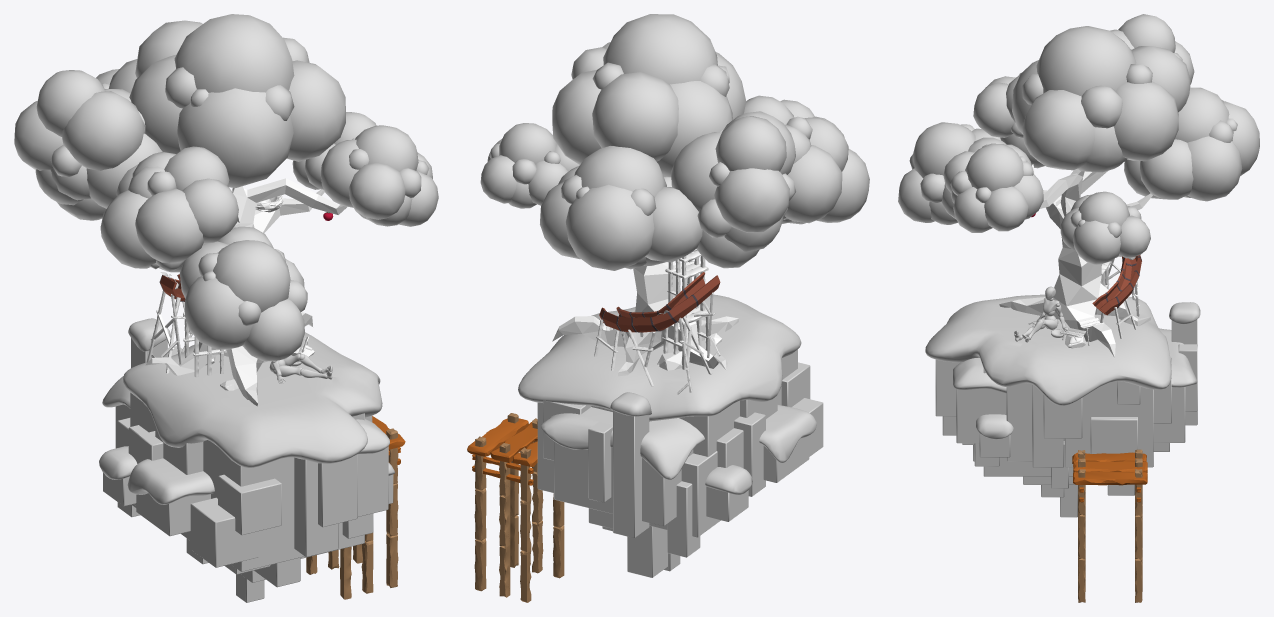
Rendered from Tree Of Eden.fbx.
3 renders of one model, left to right at view 1: azimuth 30°, elevation 25°; view 2: azimuth 150°, elevation 25°; view 3: azimuth 270°, elevation 25°, orthographic. The views are drawn at different scales.
Parts seen in each view (by area): view 1: Leaves_3, Grass_Big, Leaves_6, Leaves_1, Leaves_7, Leaves_2, Tree, Land_4, Pier, Land_39, Land_16, Land_10 (+19 smaller); view 2: Leaves_3, Grass_Big, Leaves_5, Leaves_6, Pier, Leaves_7, Leaves_4, Tree, Grass_Small_4, Land_6, Land_23, Slide (+18 smaller); view 3: Leaves_3, Grass_Big, Leaves_5, Leaves_2, Tree, Leaves_1, Leaves_4, Pier, Land_5, Leaves_7, Land_7, Land_8 (+19 smaller).
Part boxes in pixels (box(x1,y1,x2,y2)): Leaves_3: box(129, 14, 345, 187); Grass_Big: box(123, 332, 382, 467); Leaves_6: box(14, 70, 162, 220); Leaves_1: box(179, 226, 307, 361); Leaves_7: box(100, 146, 238, 272); Leaves_2: box(320, 125, 438, 226); Tree: box(145, 178, 347, 406); Land_4: box(190, 440, 304, 571); Pier: box(306, 416, 405, 599); Land_39: box(190, 497, 258, 567); Land_16: box(218, 474, 281, 535); Land_10: box(294, 457, 338, 557); Leaves_3: box(552, 14, 746, 176); Grass_Big: box(518, 294, 801, 420); Leaves_5: box(540, 146, 702, 270); Leaves_6: box(671, 111, 795, 268); Pier: box(467, 413, 564, 602); Leaves_7: box(743, 95, 848, 223); Leaves_4: box(480, 123, 579, 208); Tree: box(552, 261, 738, 376); Grass_Small_4: box(541, 407, 704, 479); Land_6: box(554, 441, 693, 526); Land_23: box(613, 410, 649, 538); Slide: box(599, 272, 720, 332); Leaves_3: box(1012, 26, 1190, 172); Grass_Big: box(925, 294, 1171, 405); Leaves_5: box(1124, 87, 1259, 201); Leaves_2: box(943, 143, 1043, 232); Tree: box(999, 164, 1152, 357); Leaves_1: box(898, 122, 1006, 224); Leaves_4: box(1060, 191, 1150, 264); Pier: box(1072, 449, 1147, 602); Land_5: box(1064, 381, 1153, 467); Leaves_7: box(973, 72, 1044, 168); Land_7: box(956, 388, 1006, 443); Land_8: box(1006, 383, 1032, 461).
Bounding box in the file's own units: 682 × 1155 × 746.
